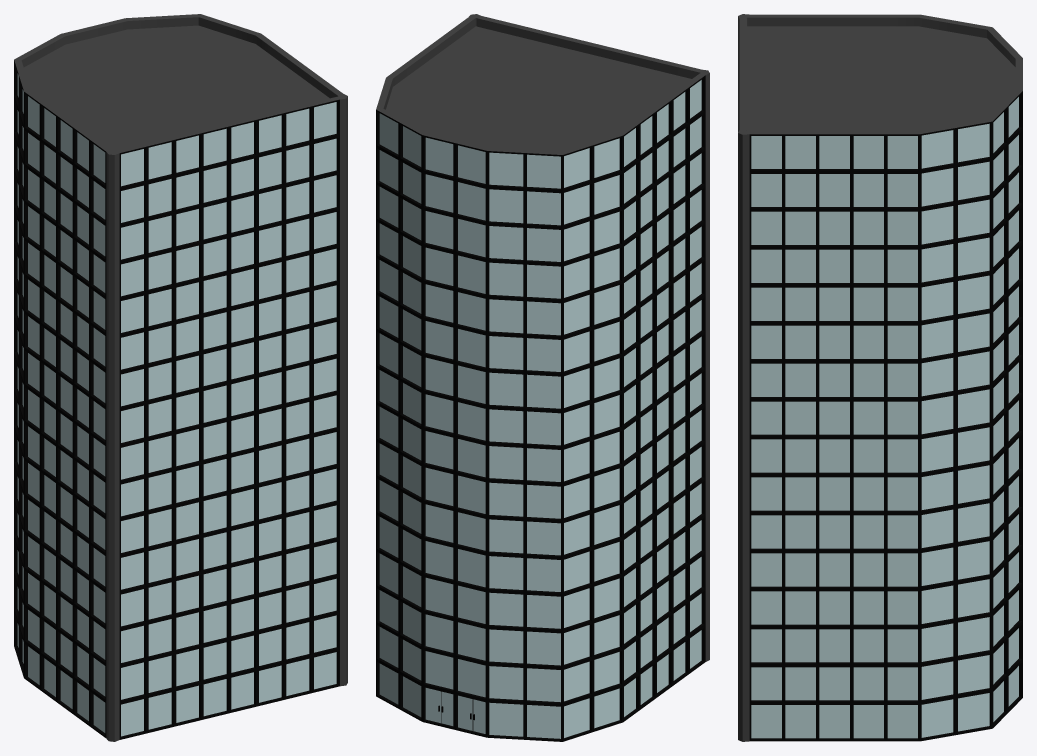
The model's file is Building7.glb.
3 renders of one model, left to right at view 1: azimuth 30°, elevation 25°; view 2: azimuth 150°, elevation 25°; view 3: azimuth 270°, elevation 25°, orthographic. The views are drawn at different scales.
Parts seen in each view (by area): view 1: Cube.004; view 2: Cube.004; view 3: Cube.004.
Part boxes in pixels (x1,y1,x2,y2): Cube.004: (14,14,347,741); Cube.004: (376,14,709,741); Cube.004: (738,14,1022,741).
Size of the model in its own units: 4.03 by 9.45 by 4.02.
